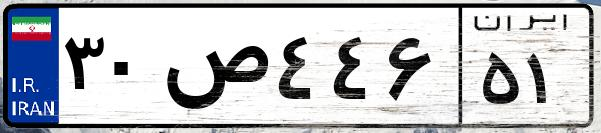0: (110, 28, 158, 98)
1: (525, 38, 570, 115)
3: (57, 26, 110, 100)
4: (270, 28, 330, 110), (330, 28, 385, 110)
5: (475, 38, 525, 113)
6: (385, 28, 445, 110)
ص: (158, 20, 270, 120)
